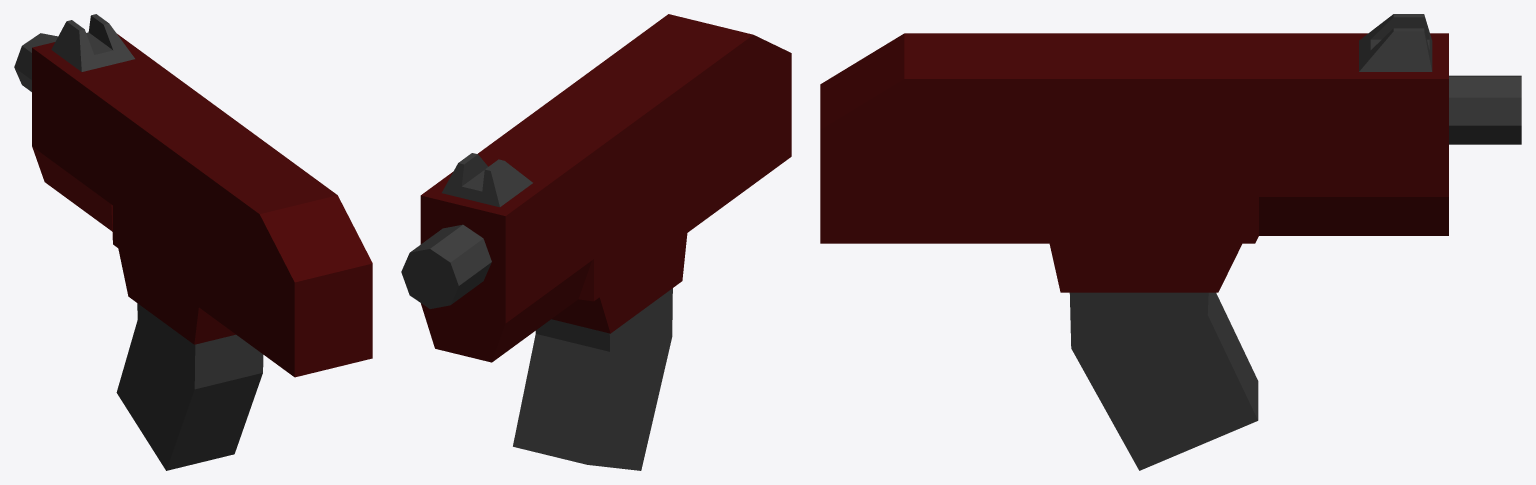
Rendered from Bolter.obj.
The picture shows the model from 3 angles, left to right: view 1: azimuth 30°, elevation 25°; view 2: azimuth 150°, elevation 25°; view 3: azimuth 270°, elevation 25°; orthographic projection. The views are drawn at different scales.
Visible parts, largest first — view 1: Cube, Cube.002, Cube.001, Cylinder; view 2: Cube, Cube.002, Cylinder, Cube.001; view 3: Cube, Cube.002, Cylinder, Cube.001.
Boxes of the visible parts, bbox=[...] form: Cube: bbox=[32, 34, 372, 377]; Cube.002: bbox=[116, 303, 263, 470]; Cube.001: bbox=[51, 14, 134, 71]; Cylinder: bbox=[14, 33, 57, 91]; Cube: bbox=[420, 14, 791, 362]; Cube.002: bbox=[513, 288, 672, 470]; Cylinder: bbox=[401, 224, 491, 308]; Cube.001: bbox=[442, 153, 532, 207]; Cube: bbox=[820, 33, 1448, 292]; Cube.002: bbox=[1069, 292, 1258, 470]; Cylinder: bbox=[1449, 75, 1521, 144]; Cube.001: bbox=[1359, 14, 1432, 71].
Size of the model in its own units: 0.6 by 2.63 by 3.9.
